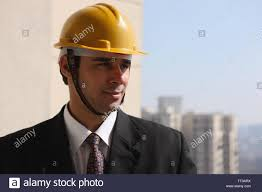Indian_Male: (65, 33, 136, 112)
